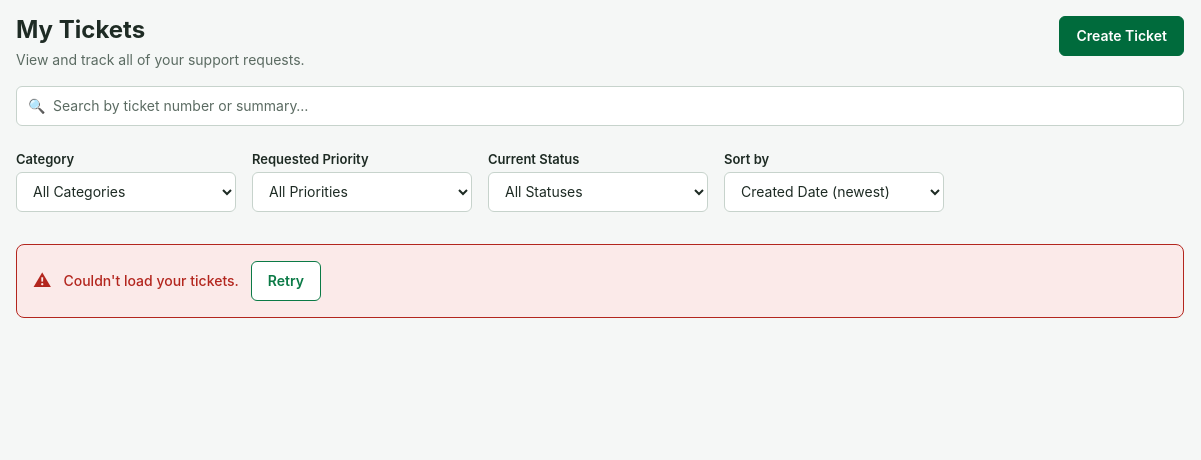
Test: UI-35 — Error state › Retry button re-fetches tickets
This screenshot has width=1201, height=460.
What coordinates should you click on to do the following:
click the button "Retry"
I would click on:
 (286, 281)
Its box is [251, 261, 321, 301].
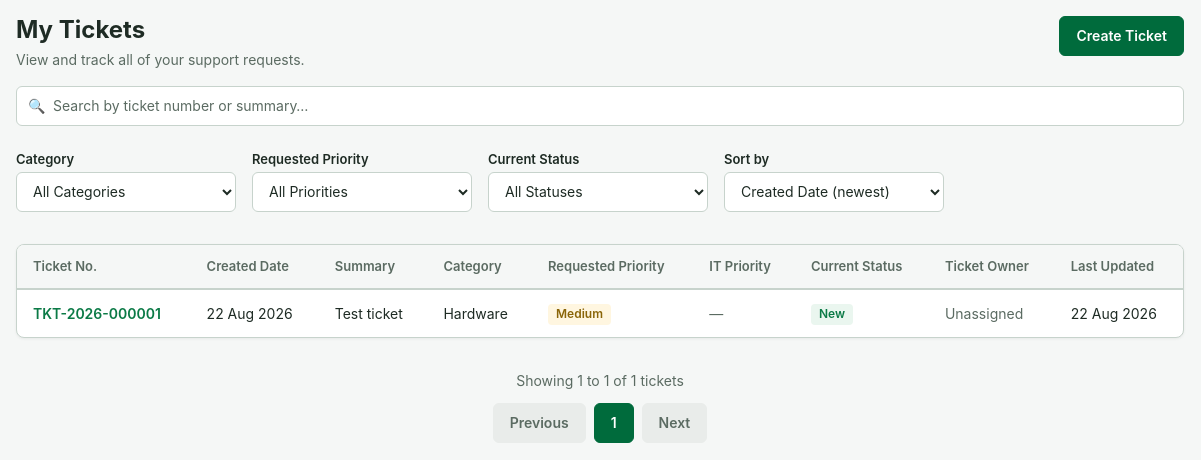
Check: the table is shown, box [17, 245, 1183, 337]
Check: the text "Couldn't load your tickets." is gone
